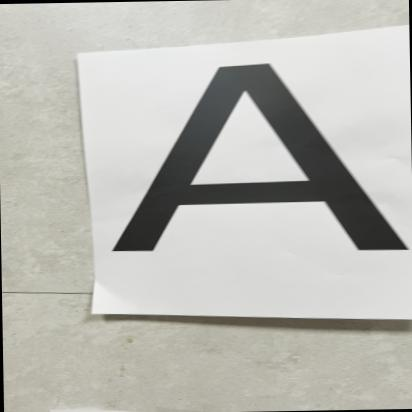seat: (120, 56, 412, 279)
